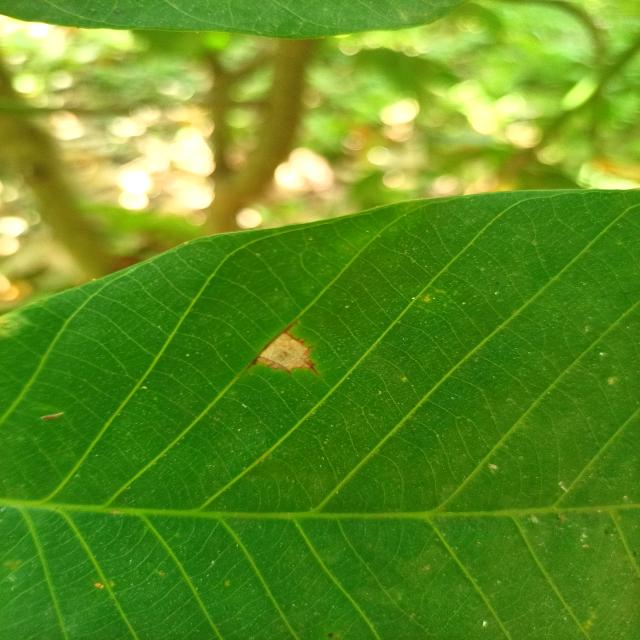Corynespora: (247, 320, 320, 376)
